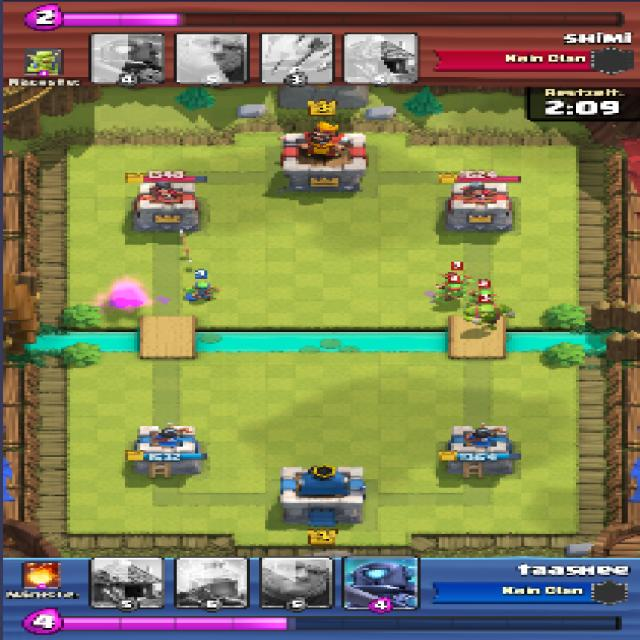Enemy-SpearGoblin: (466, 287, 498, 306), (434, 285, 464, 305), (444, 273, 474, 289)
Player-GoblinCage: (462, 302, 516, 330)
Player-SpearGoblin: (184, 280, 220, 304)
